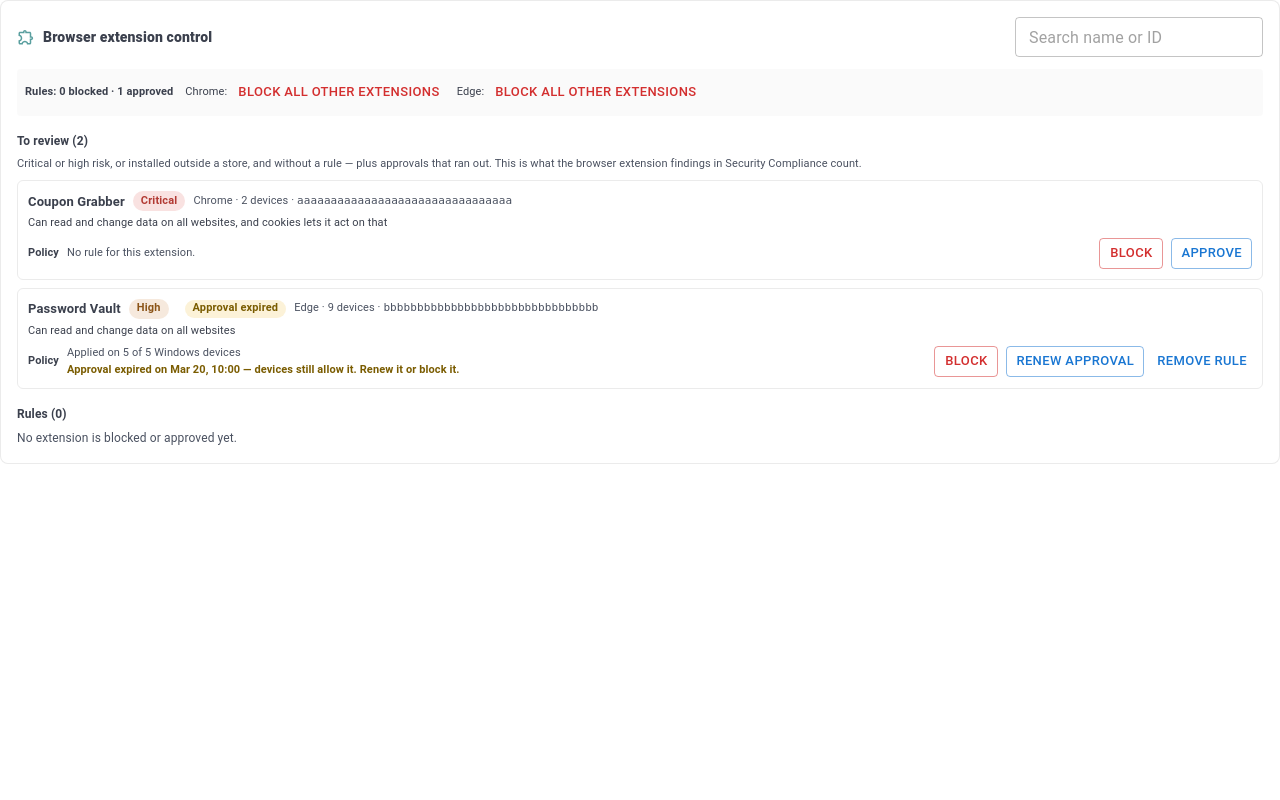
ExtensionControlPanel › ⭐ una aprobación vencida vuelve a To review, con su fecha, y se renueva desde ahí
Expected: the text "To review (2)" is shown, [17,134,88,148]
Expected: the text "Rules (0)" is shown, [17,407,67,421]
Click the button "Renew approval": (1075, 362) [1006,346,1144,377]
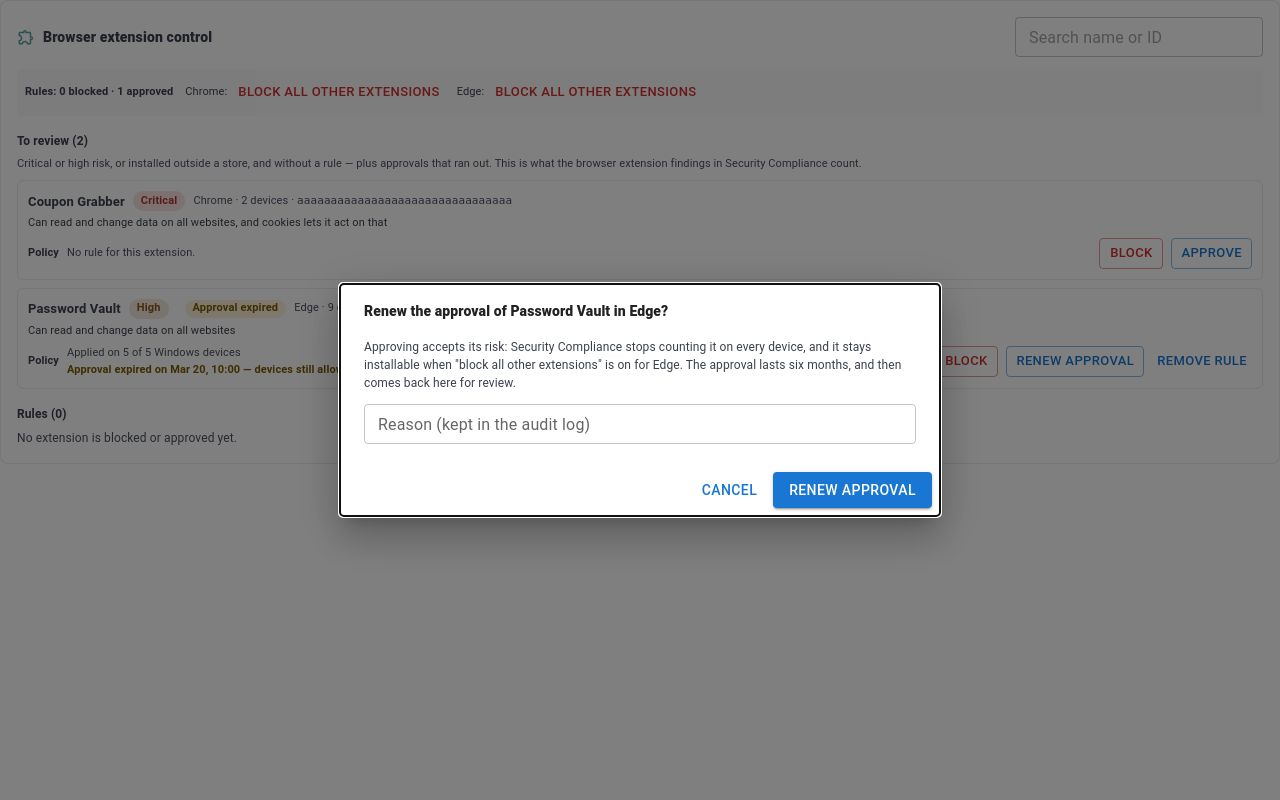
Expected: the text "The approval lasts six months" is shown, [364,340,902,390]
Click the button "Renew approval": (853, 490) [773,472,932,508]
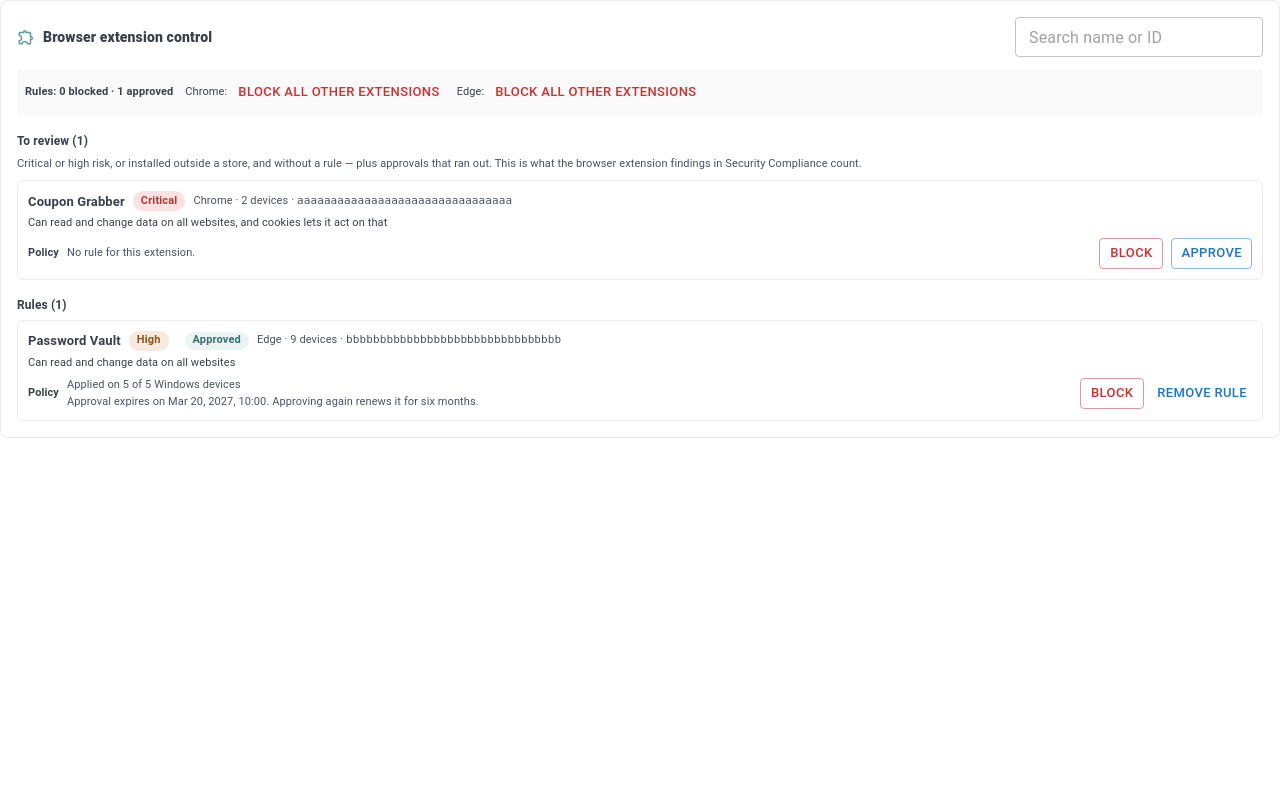
Expected: the text "Rules (1)" is shown, [17,298,67,312]
Expected: the text "To review (1)" is shown, [17,134,88,148]
